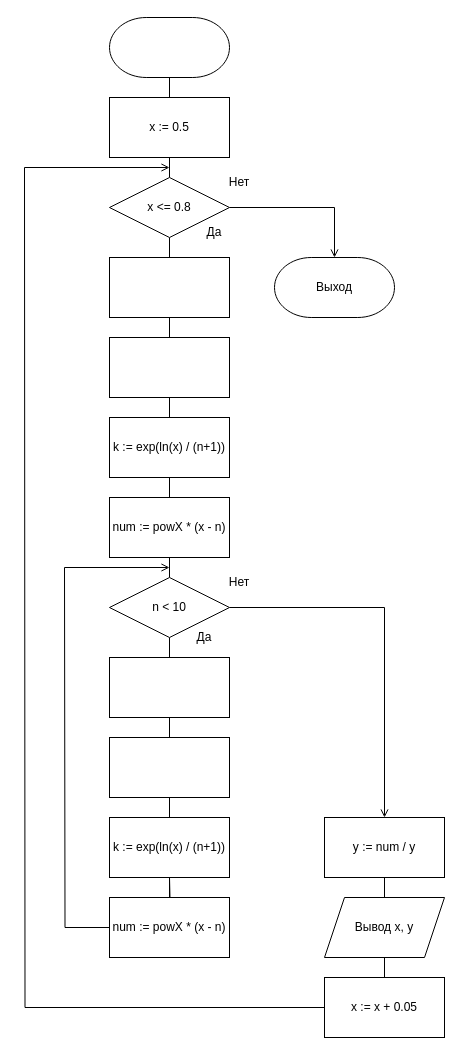
The diagram is 462 pixels wide and 1055 high, and some of its shapes have lost their labels. The shapes that lost their labels are listed below. From the top down, each one's centre as x and y in pixels, then its label:
At point (169, 47): "Начало".
At point (169, 287): "n := 2 powX := x*x".
At point (169, 367): "у := sqrt(x)".
At point (169, 687): "y := k + num / y".
At point (169, 767): "n := n + 1 powX := powX * x".
